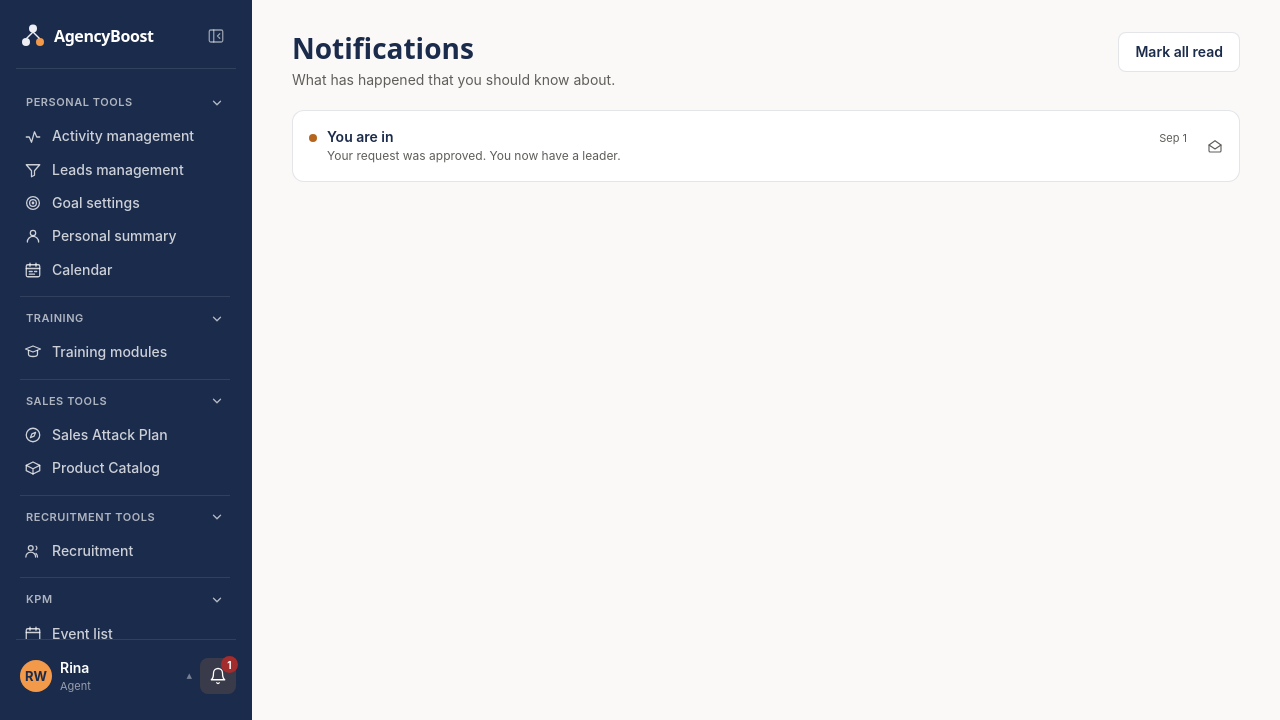
Test: the notifications inbox (P3.5-T10, P12.1) › P12.1-T3 AC-4: Escape and the backdrop close the modal too
Click the button named "Unread: You are in" at (350, 135), box 299,119 -> 1197,173
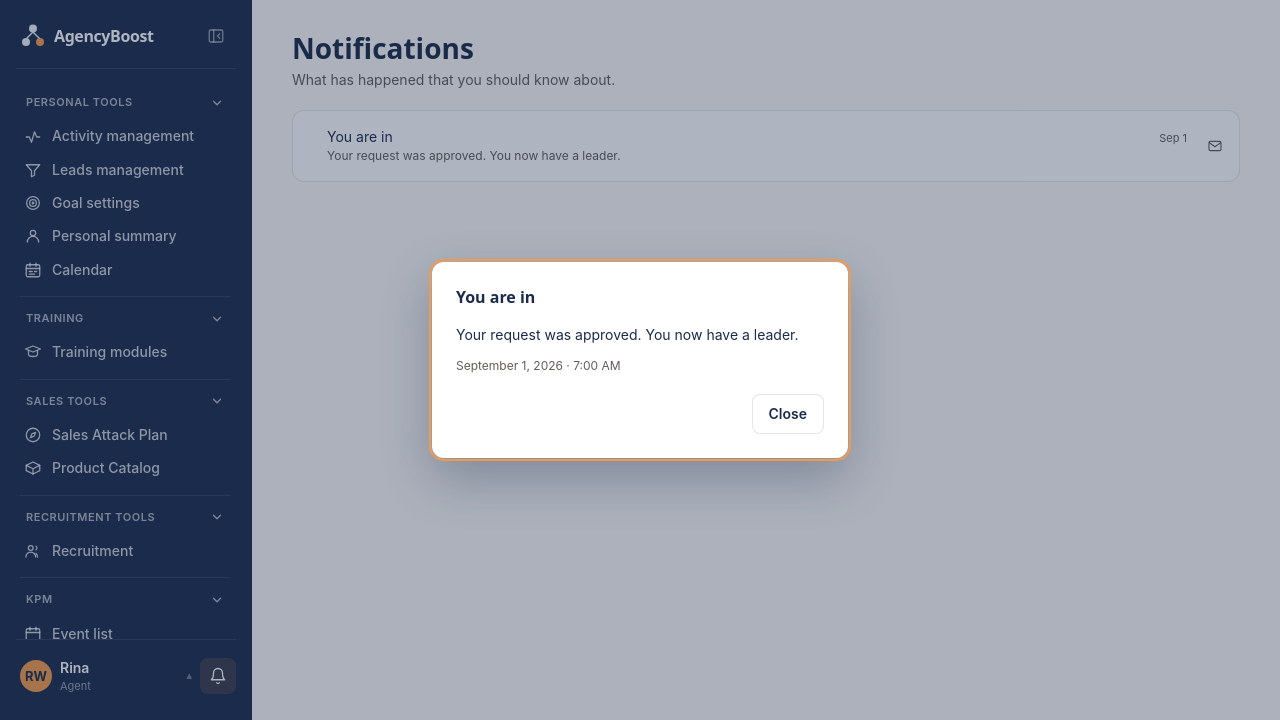
Press Escape
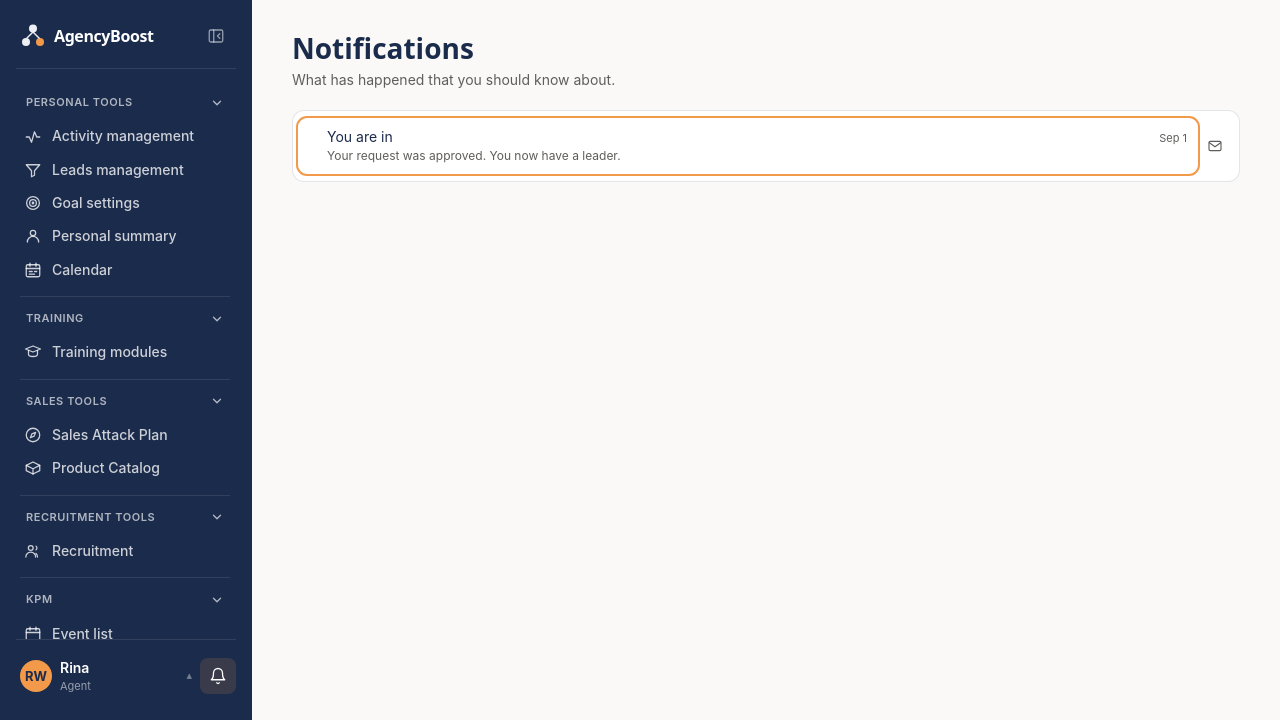
expect the dialog is gone: met
Click the button "You are in" at (360, 136), box 299,119 -> 1197,173
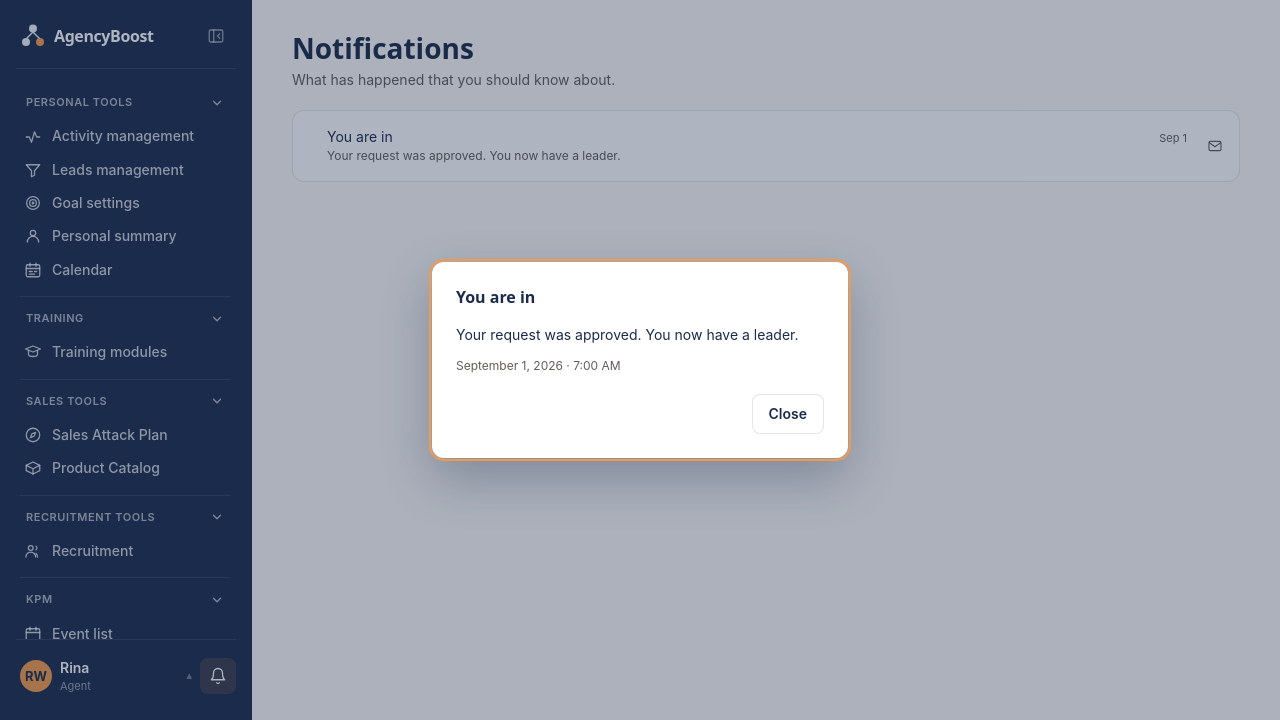
Click the element that starts with "You are in" at (77, 360), box 0,0 -> 1279,719
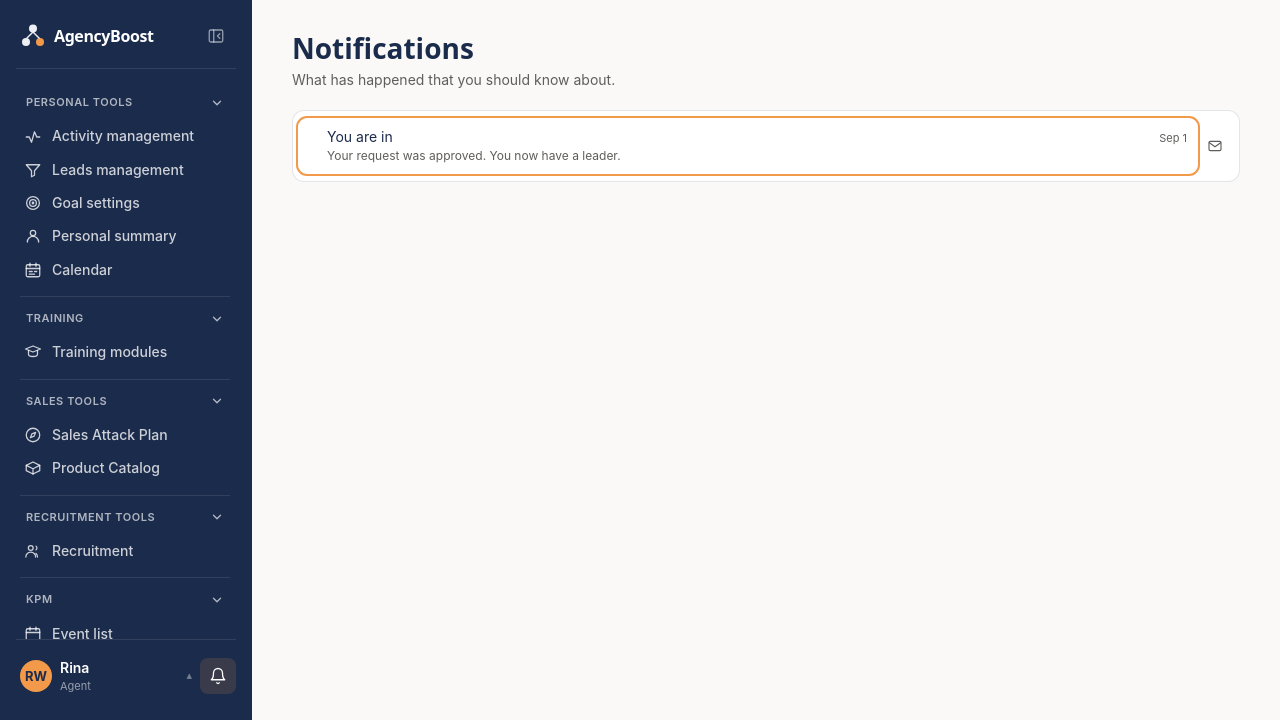
expect the dialog is gone: met
